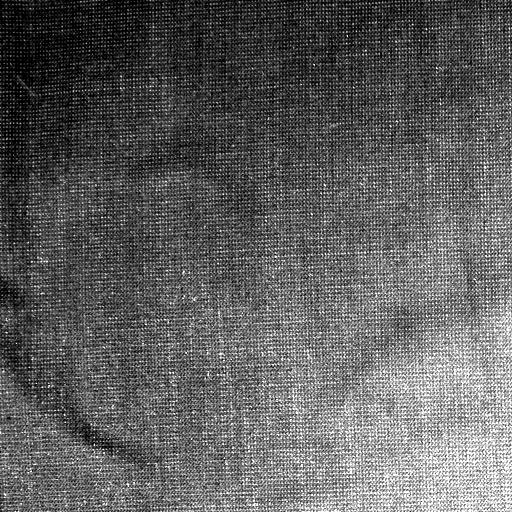fabric_perfect: (0, 0, 512, 512), (0, 6, 512, 512)
